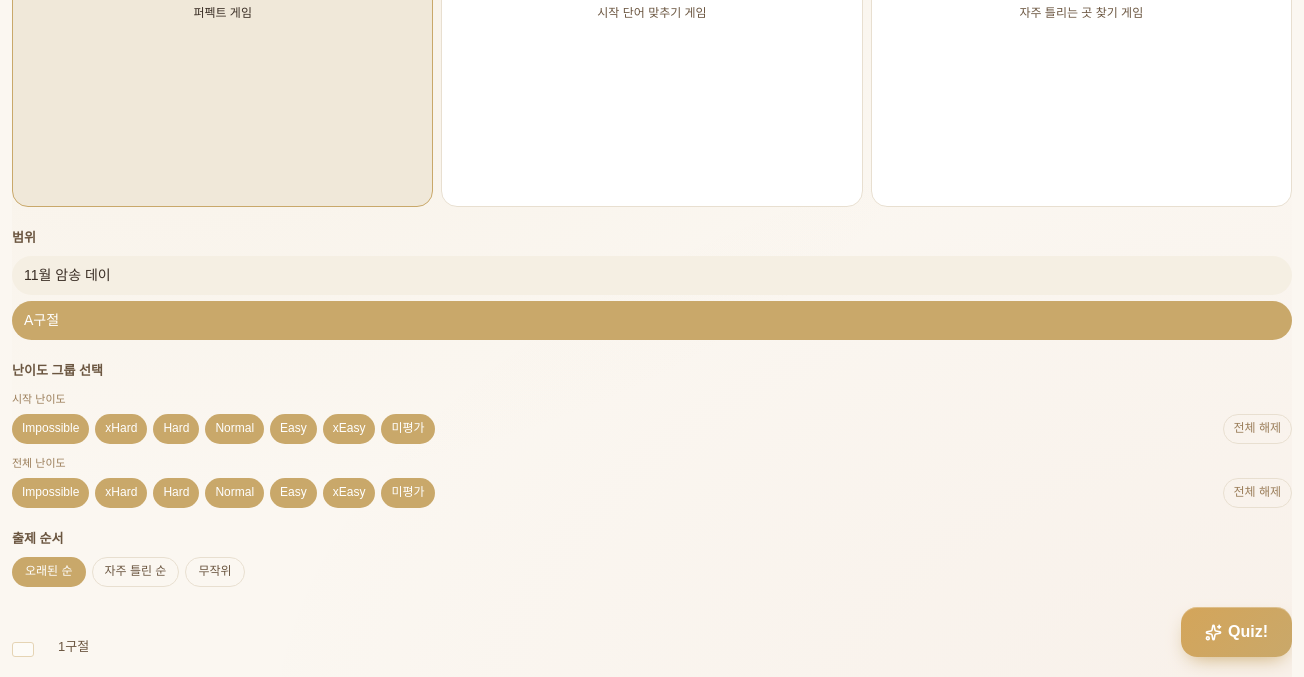
Test: QuizScopePicker — 난이도 rows › files each dimension separately under 미평가
(page scrolled)
Expected: the text "1구절" is shown, [58,636,89,657]
Click the 2nd button "미평가": (408, 493) [381,478,434,508]
(page scrolled)
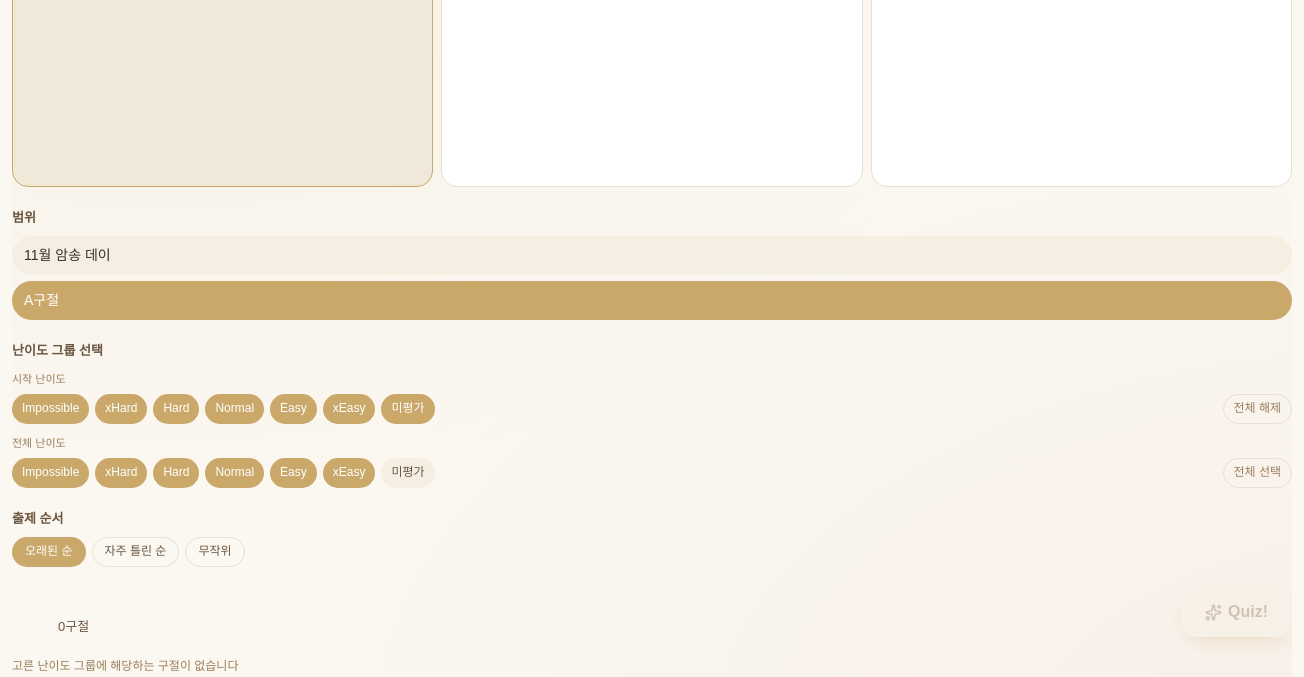
Now the text "고른 난이도 그룹에 해당하는 구절이 없습니다" is shown, box [12,659,238,673]
